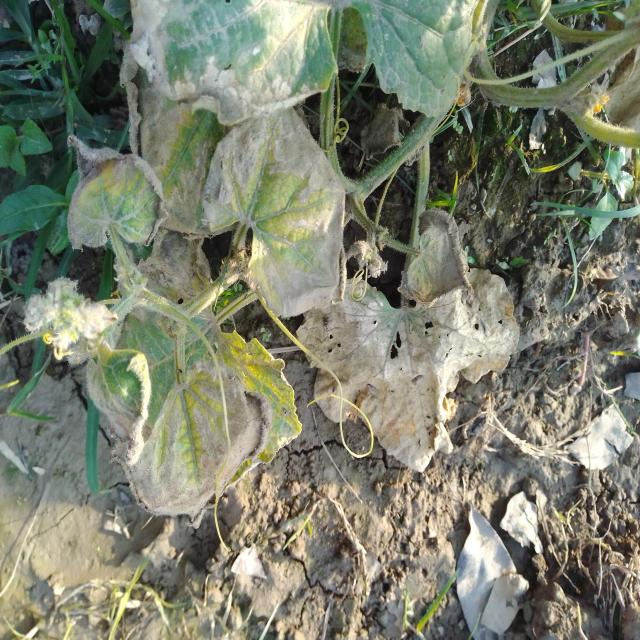cucumber_bacterial: (304, 202, 520, 497), (42, 291, 270, 539), (180, 116, 398, 322), (125, 4, 352, 123), (33, 147, 174, 284)
